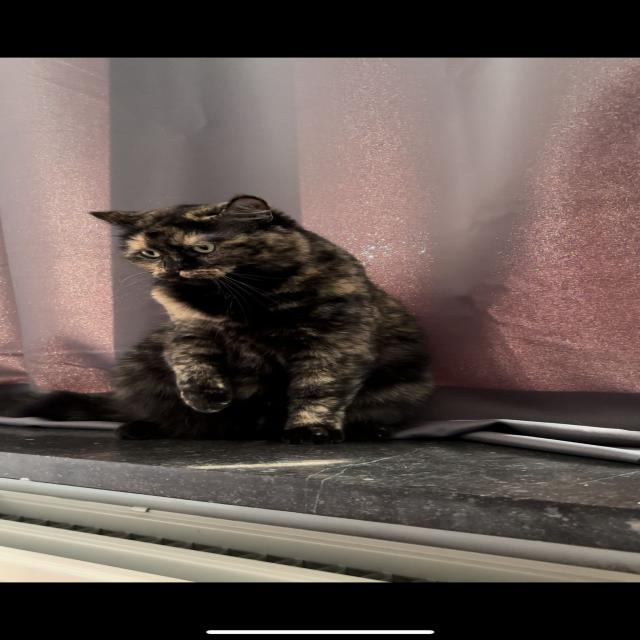authorized: (2, 193, 438, 445)
